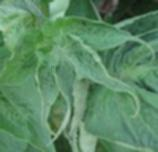Tomato leaf mosaic virus: (0, 46, 66, 152), (60, 30, 140, 113), (83, 70, 158, 152), (49, 14, 153, 56)
